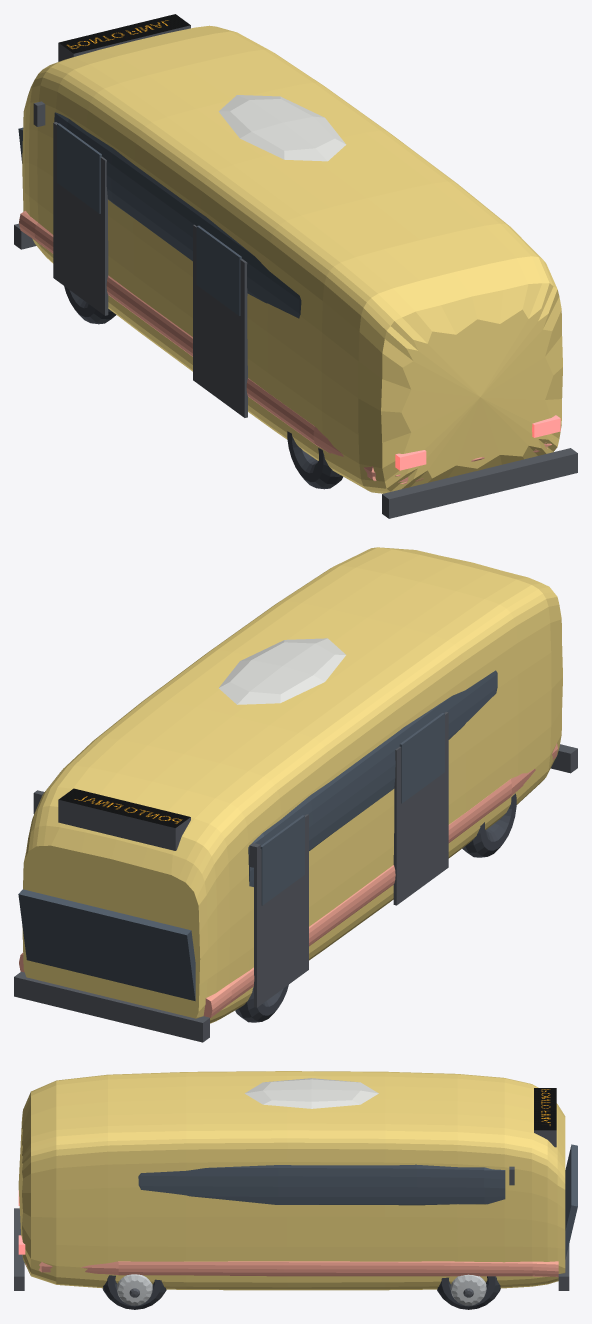
File: onibus.glb
3 views of the same model, one above another, from view 1: azimuth 30°, elevation 25°; view 2: azimuth 150°, elevation 25°; view 3: azimuth 270°, elevation 25° (orthographic). The views are drawn at different scales.
Visible parts, largest first — view 1: Onibus, BusWheelRL, BusWheelFL; view 2: Onibus, BusWheelRL, BusWheelFL; view 3: Onibus, BusWheelFR, BusWheelRR.
Boxes of the visible parts, <box> form: Onibus: <box>14,14,577,518</box>; BusWheelRL: <box>287,431,342,489</box>; BusWheelFL: <box>64,286,116,324</box>; Onibus: <box>14,547,577,1042</box>; BusWheelRL: <box>462,793,516,857</box>; BusWheelFL: <box>235,984,288,1022</box>; Onibus: <box>14,1071,577,1290</box>; BusWheelFR: <box>437,1274,500,1309</box>; BusWheelRR: <box>102,1274,166,1309</box>.
Size of the model in its own units: 2.86 by 3.13 by 8.45.
Materials: 10 (1 with a texture image).
